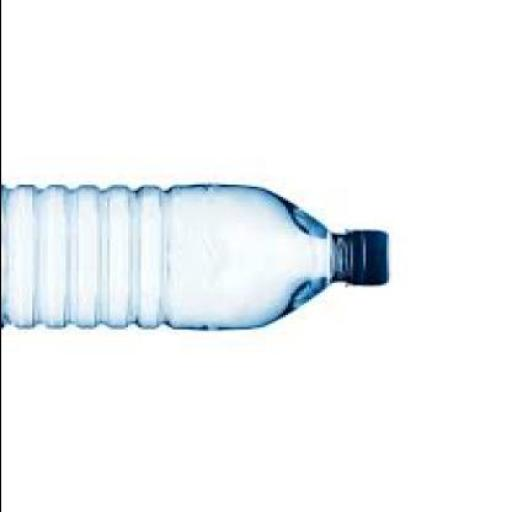plastic: (3, 185, 390, 331), (344, 233, 391, 289)
